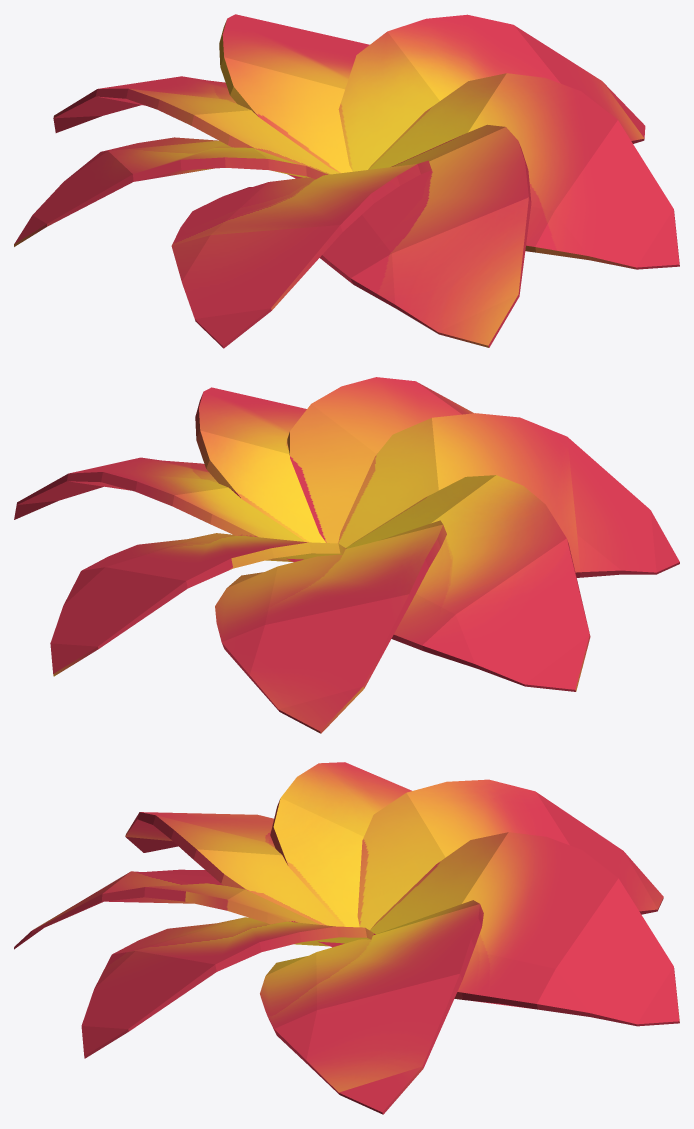
File: flower6.fbx
The picture shows the model from 3 angles, top to bottom: view 1: azimuth 30°, elevation 25°; view 2: azimuth 150°, elevation 25°; view 3: azimuth 270°, elevation 25°; orthographic projection.
Visible parts, largest first — view 1: flower6; view 2: flower6; view 3: flower6.
Part boxes in pixels (<box>): flower6: <box>14,14,679,348</box>; flower6: <box>14,377,679,733</box>; flower6: <box>14,762,679,1114</box>.
Bounding box in the file's own units: 57.9 × 10.73 × 56.72.
